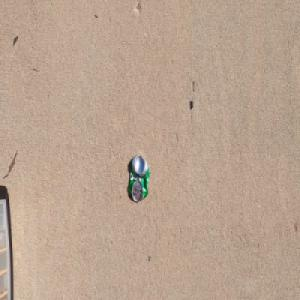SodaCan: (127, 152, 150, 203)
